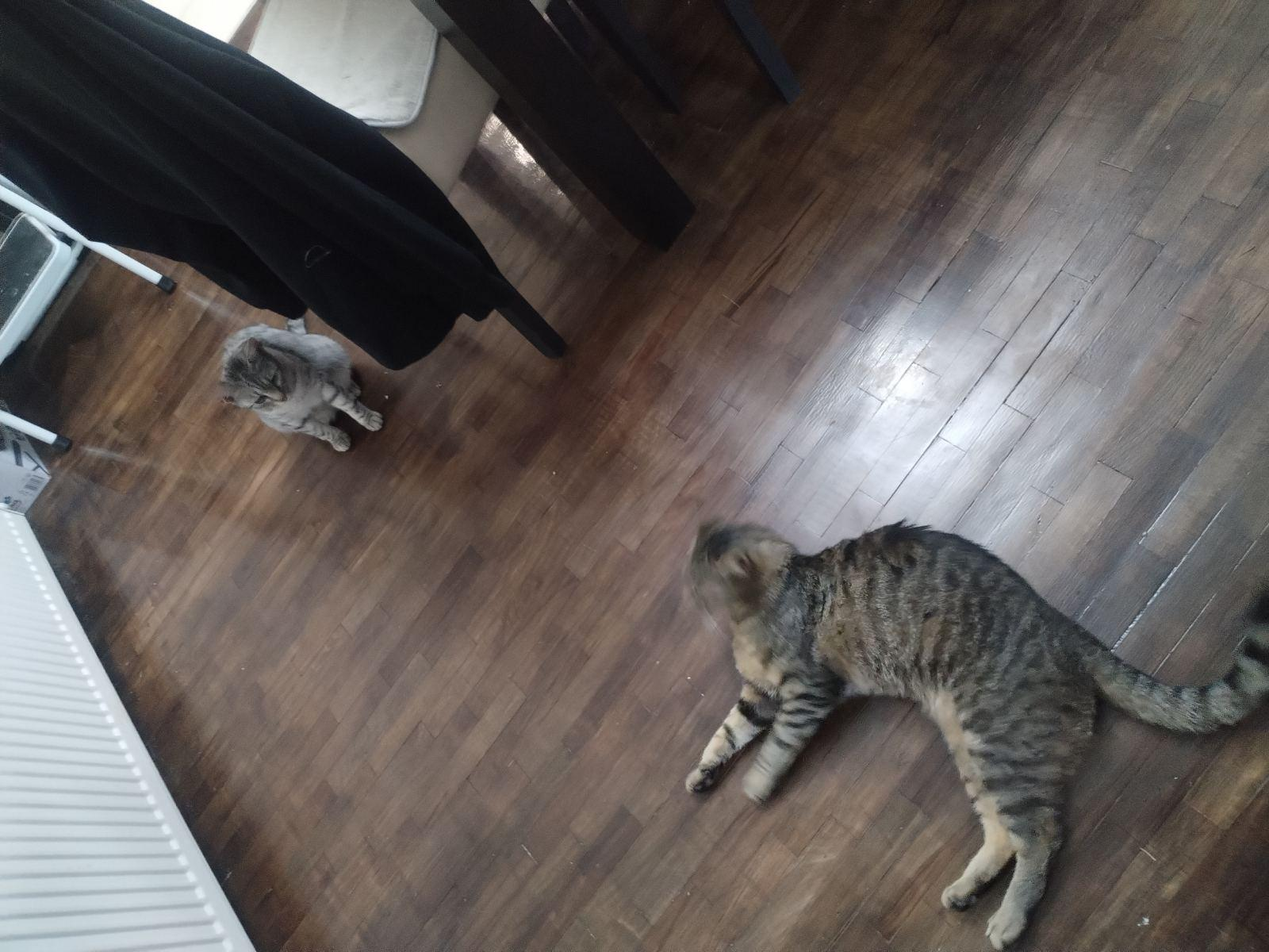macka: (687, 523, 1268, 950), (218, 318, 389, 461)
